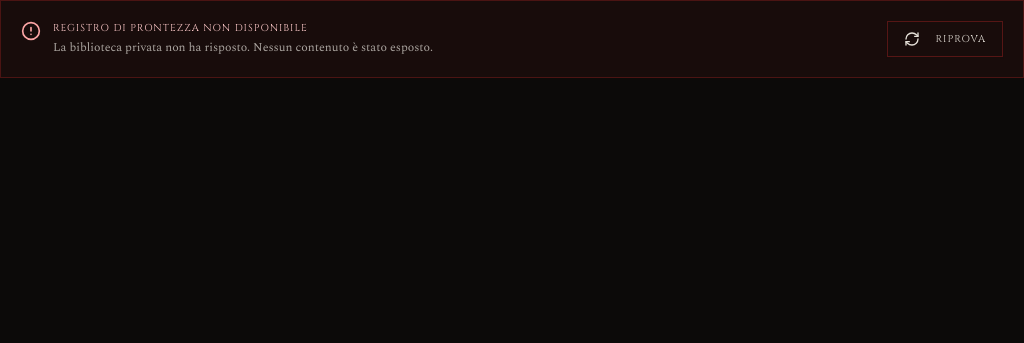
Test case: LibraryCoverageReadiness › offers a retry when the private report is unavailable
Click the button "RIPROVA" at (945, 39), box x1=887 y1=21 x2=1003 y2=57
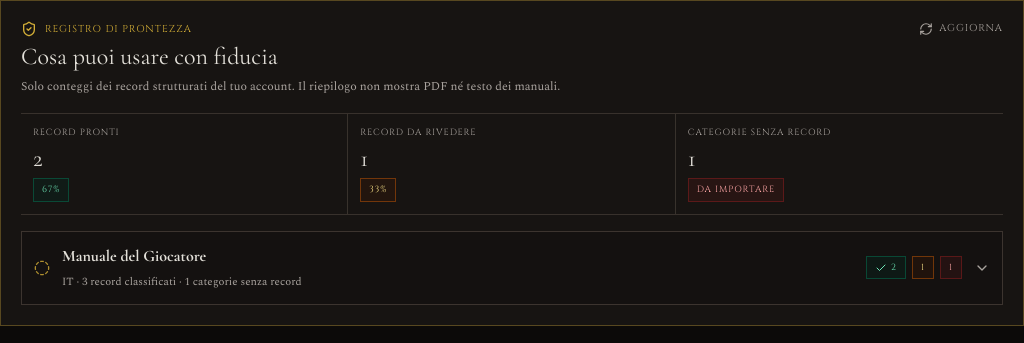
Expected: the text "Cosa puoi usare con fiducia" is shown, x1=21 y1=42 x2=278 y2=71
